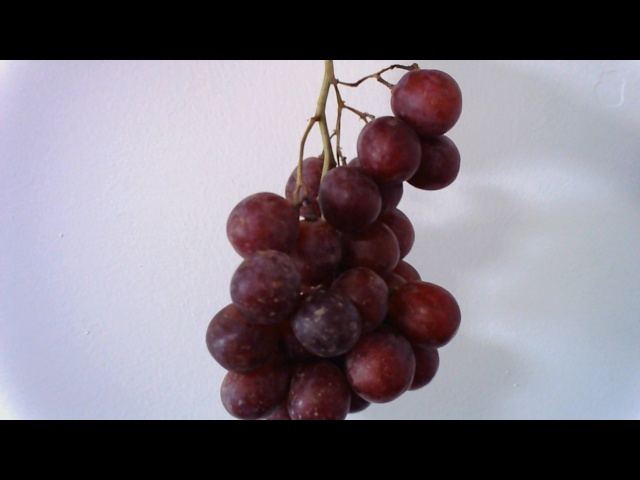grape: (214, 74, 469, 414)
